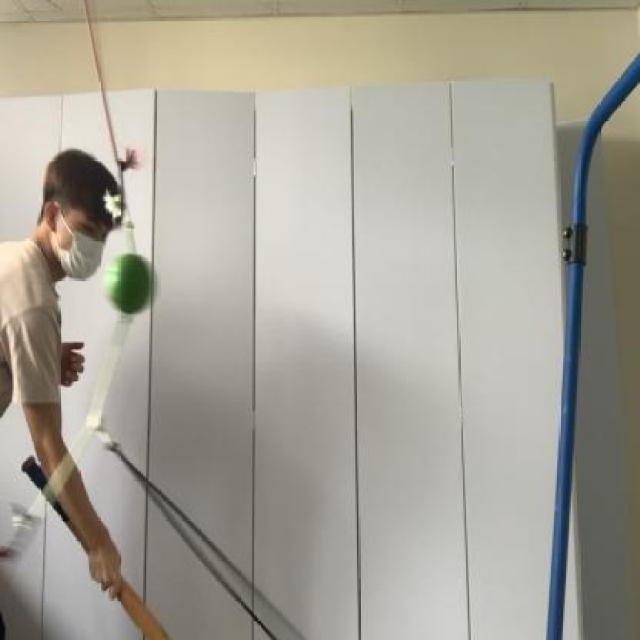baseball: (94, 240, 160, 317)
